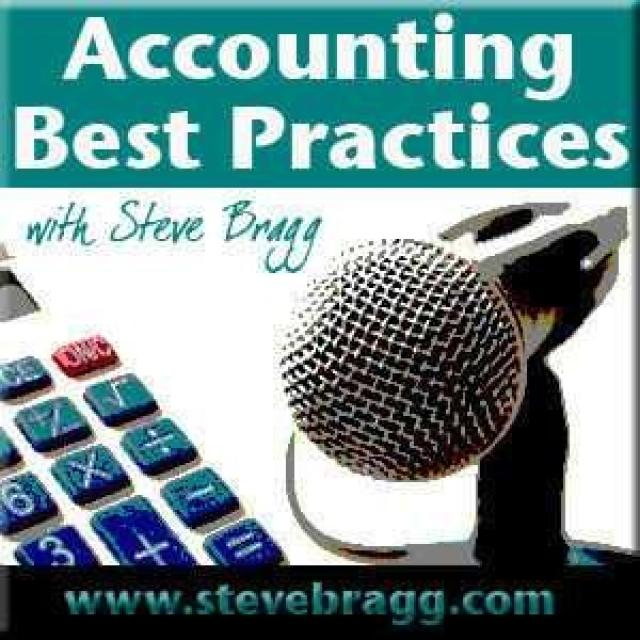microphone: (282, 212, 628, 495)
